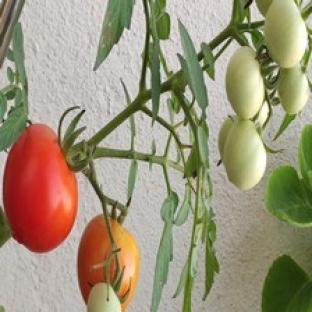Tomato: (3, 124, 77, 252), (223, 120, 266, 190), (226, 46, 264, 118), (111, 219, 139, 310), (278, 65, 310, 114), (88, 283, 121, 311), (218, 116, 236, 158), (254, 102, 268, 126)
